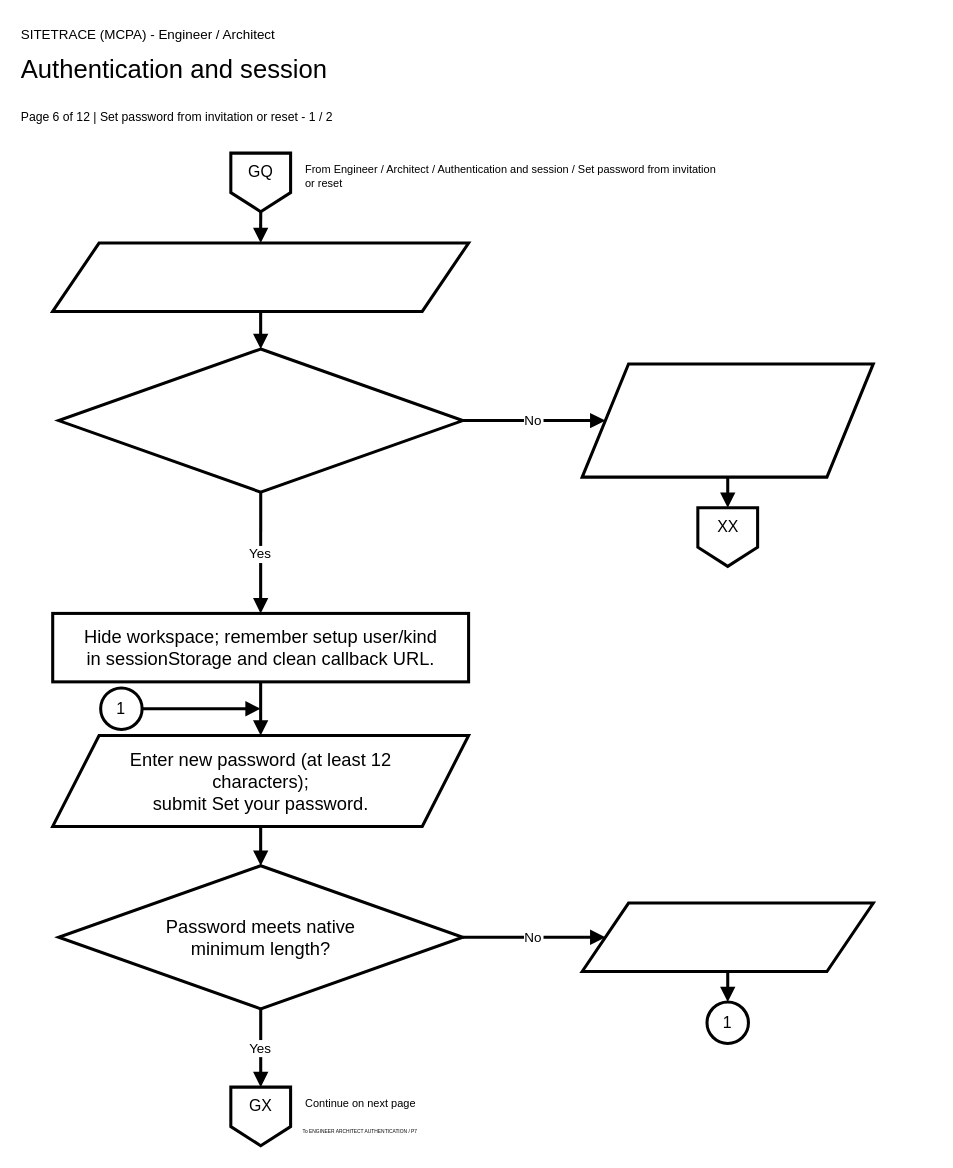
This 953x1168 diagram has some shape labels left out. Each missing label, with the centre of its shape:
"Callback valid and session available?" belongs at point (260, 420).
"Correct password; setup form remains open." belongs at point (727, 936).
"Open invitation/reset email callback or resume pending password setup." belongs at point (260, 276).
"Reject invalid/expired link; request a fresh invitation or password reset." belongs at point (727, 420).
